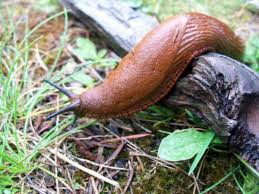slug: (46, 17, 245, 124)
